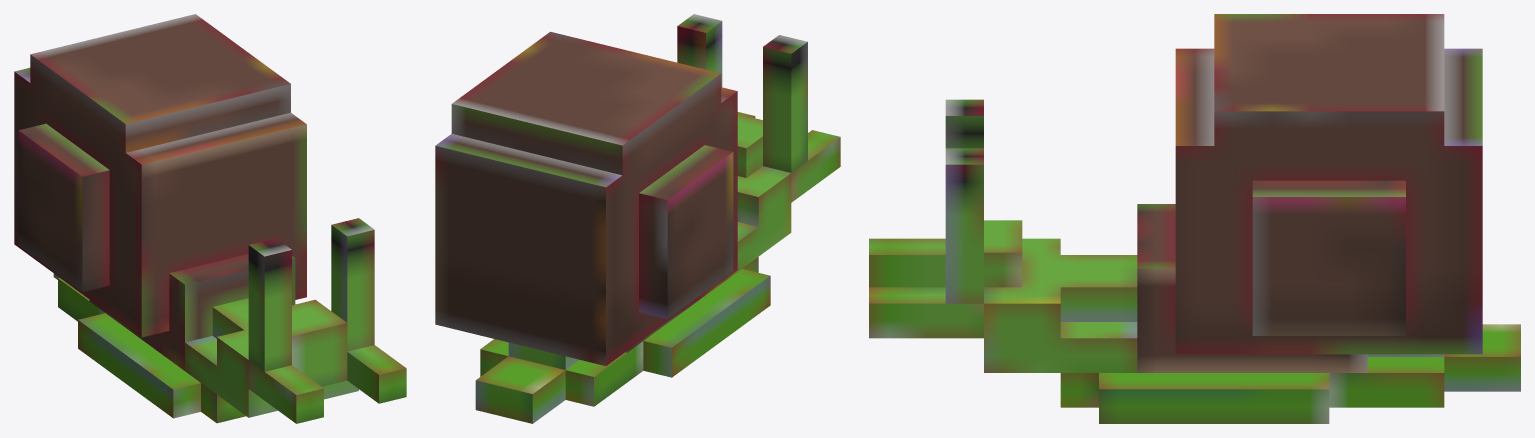
Rendered from Snail-19c62aa1.glb.
3 views of the same model, side by side, from view 1: azimuth 30°, elevation 25°; view 2: azimuth 150°, elevation 25°; view 3: azimuth 270°, elevation 25° (orthographic). The views are drawn at different scales.
Parts seen in each view (by area): view 1: Snail_Shell_BindPose, Snail_Head_BindPose, Snail_Bone_BindPose, Snail_R_Eye_BindPose, Snail_L_eye_BindPose, Snail_R_Antenna_BindPose, Snail_L_Antenna_BindPose; view 2: Snail_Shell_BindPose, Snail_Bone_BindPose, Snail_Head_BindPose, Snail_R_Eye_BindPose, Snail_Tail_BindPose, Snail_L_eye_BindPose, Snail_R_Antenna_BindPose; view 3: Snail_Shell_BindPose, Snail_Head_BindPose, Snail_Bone_BindPose, Snail_L_eye_BindPose, Snail_L_Antenna_BindPose, Snail_Tail_BindPose, Snail_R_Antenna_BindPose, Snail_R_Eye_BindPose.
Boxes of the visible parts, x1,y1,x2,y2 form: Snail_Shell_BindPose: (14, 14, 306, 370); Snail_Head_BindPose: (185, 298, 358, 417); Snail_Bone_BindPose: (58, 277, 245, 423); Snail_R_Eye_BindPose: (248, 238, 291, 371); Snail_L_eye_BindPose: (331, 218, 374, 351); Snail_R_Antenna_BindPose: (248, 360, 323, 423); Snail_L_Antenna_BindPose: (347, 345, 406, 403); Snail_Shell_BindPose: (435, 31, 737, 369); Snail_Bone_BindPose: (480, 257, 770, 406); Snail_Head_BindPose: (725, 114, 791, 280); Snail_R_Eye_BindPose: (763, 35, 807, 172); Snail_Tail_BindPose: (475, 356, 565, 423); Snail_L_eye_BindPose: (677, 14, 722, 87); Snail_R_Antenna_BindPose: (791, 130, 840, 202); Snail_Shell_BindPose: (1137, 14, 1482, 372); Snail_Head_BindPose: (984, 220, 1137, 372); Snail_Bone_BindPose: (1060, 357, 1444, 423); Snail_L_eye_BindPose: (945, 148, 983, 303); Snail_L_Antenna_BindPose: (869, 287, 983, 338); Snail_Tail_BindPose: (1444, 324, 1520, 391); Snail_R_Antenna_BindPose: (869, 238, 945, 287); Snail_R_Eye_BindPose: (945, 99, 983, 148).
Size of the model in its own units: 0.8 by 0.9 by 1.7.
Materials: 1 (1 with a texture image).
